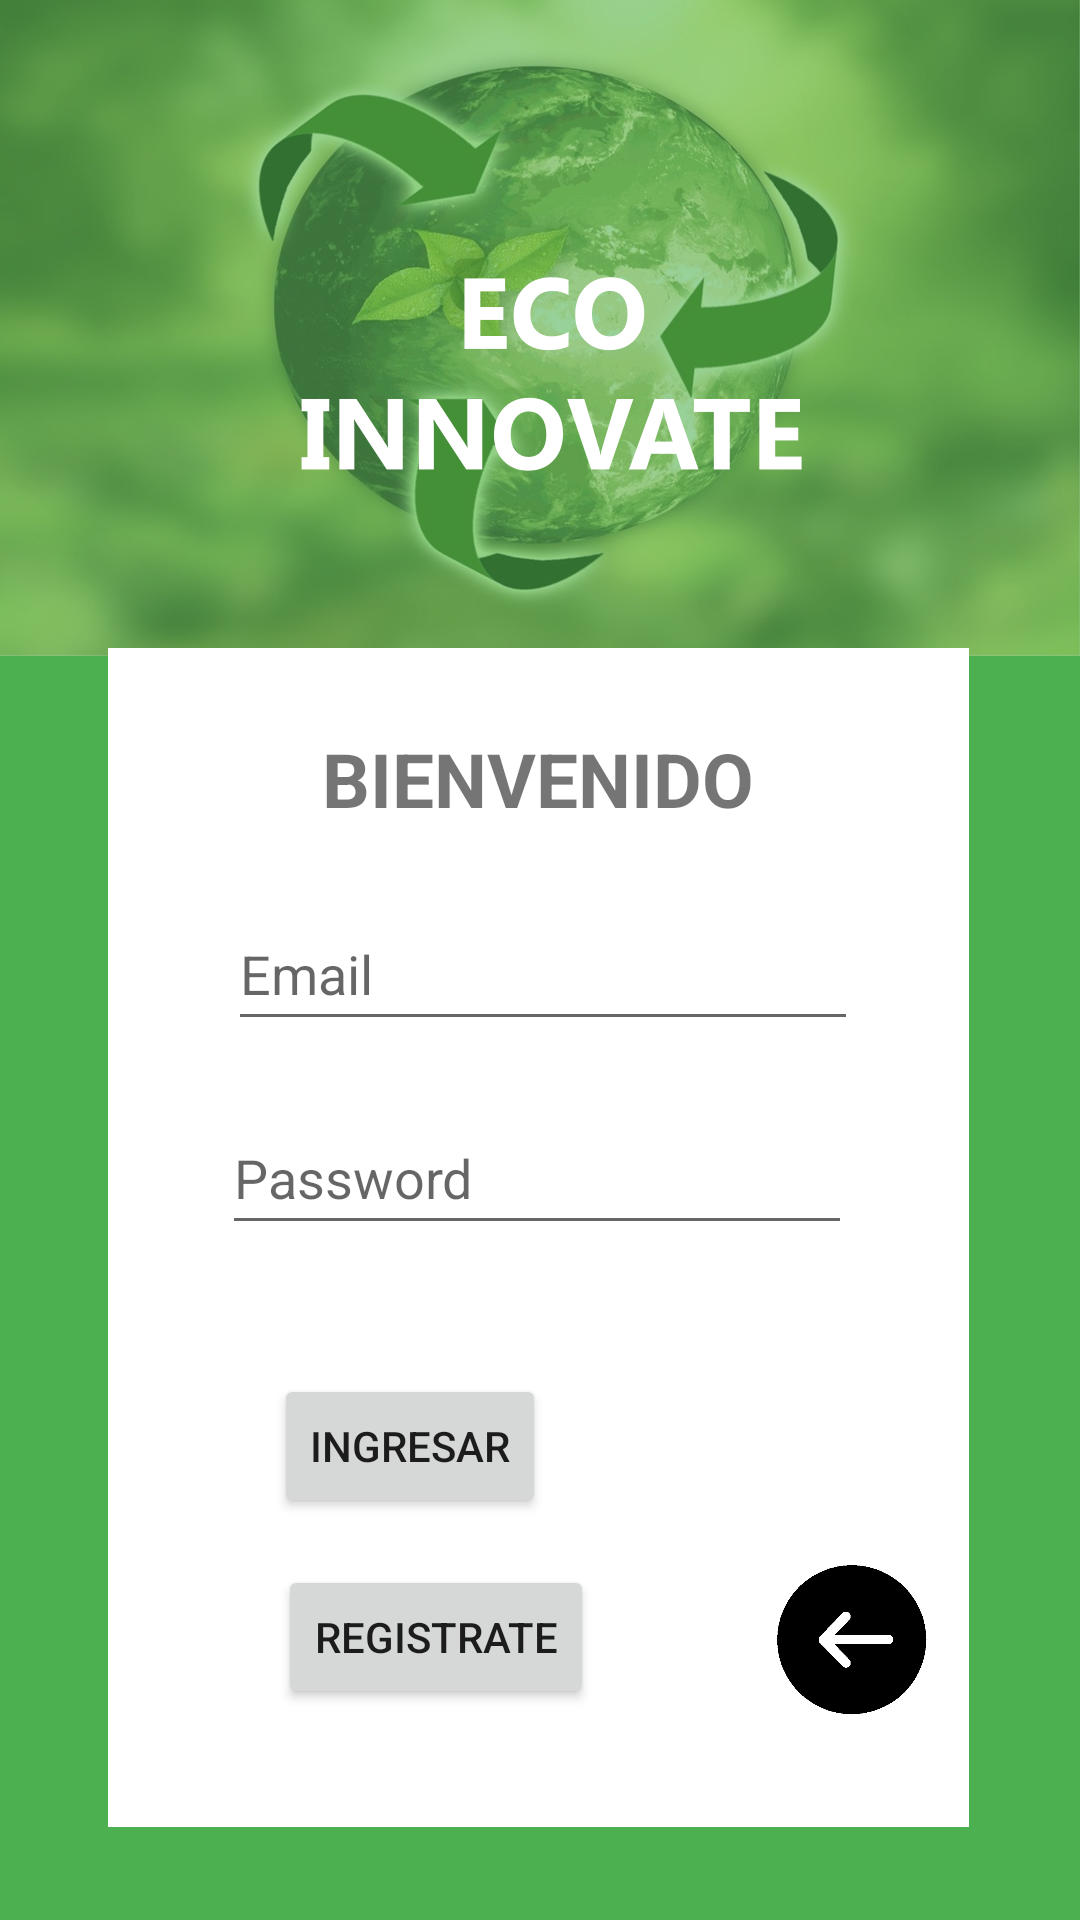

Where to tap for icons on this 1080*1920 app screen, as [x,y]:
flechanegro: [852,1640]
